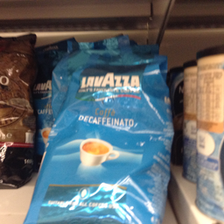coffee: (24, 39, 175, 224)
